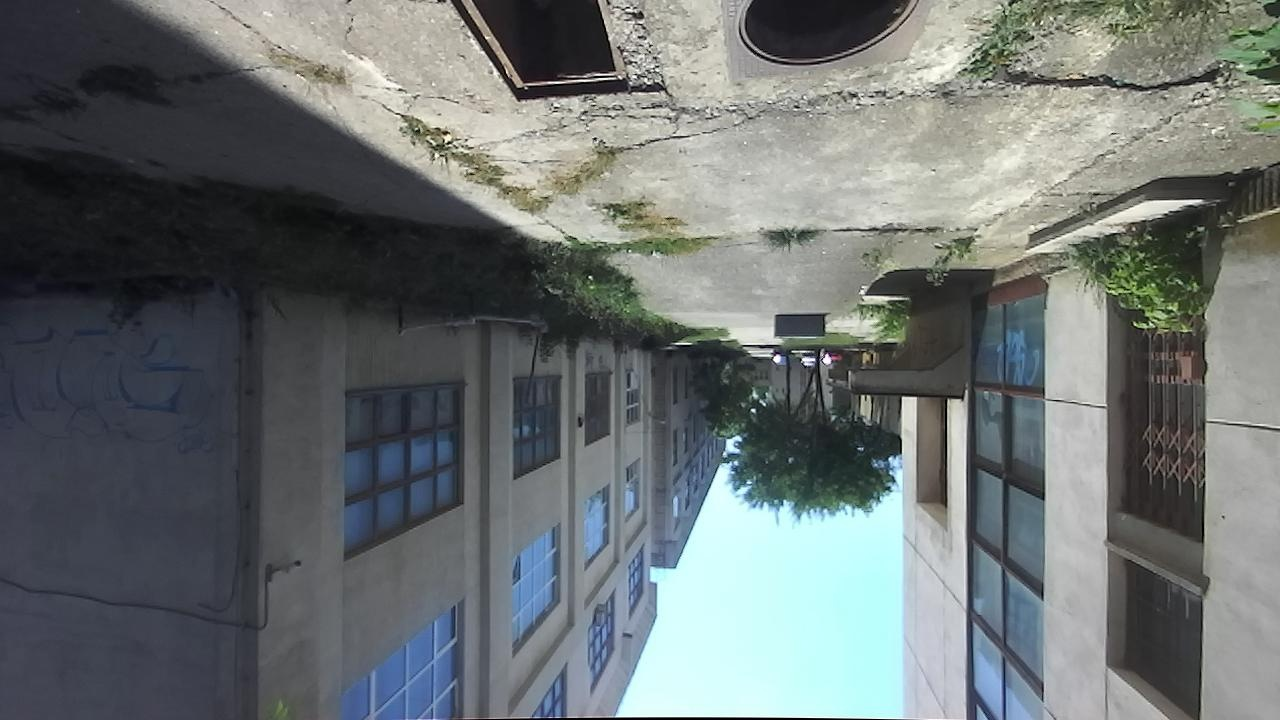drain: (444, 0, 629, 106), (729, 0, 922, 72)
